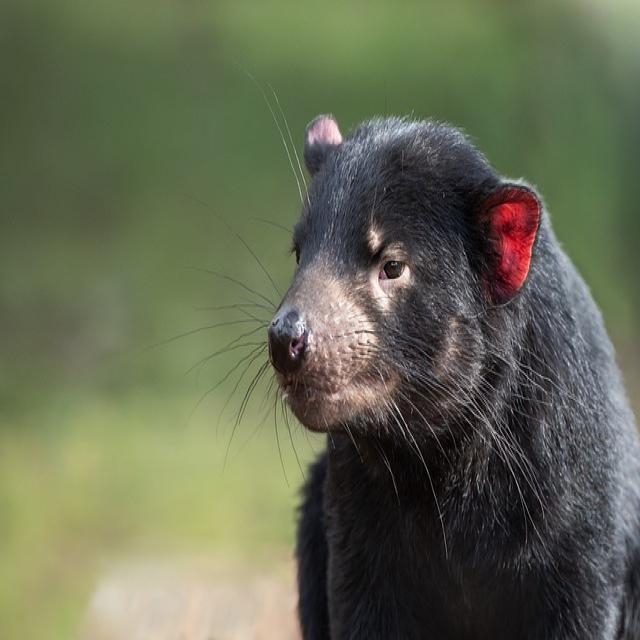Carnivorous: (265, 114, 640, 640)
